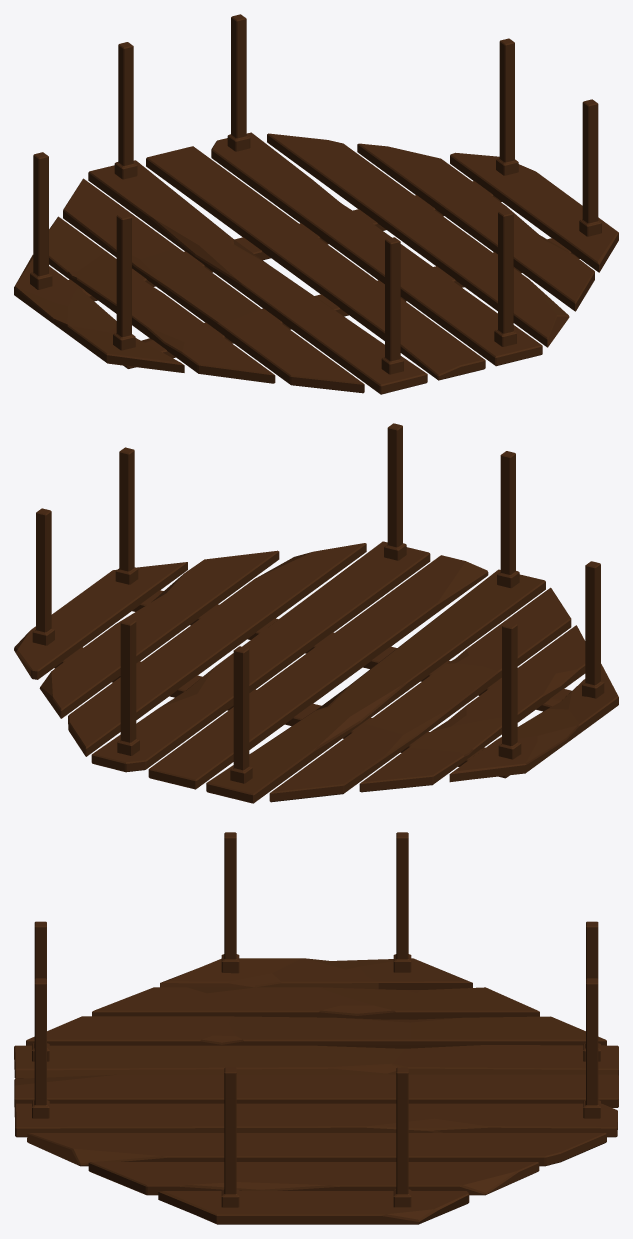
File: Platform-M03C.fbx
3 views of the same model, one above another, from view 1: azimuth 30°, elevation 25°; view 2: azimuth 150°, elevation 25°; view 3: azimuth 270°, elevation 25° (orthographic). The views are drawn at different scales.
Visible parts, largest first — view 1: Cube.001; view 2: Cube.001; view 3: Cube.001.
Part boxes in pixels (x1,y1,x2,y2): Cube.001: (14, 14, 618, 394); Cube.001: (14, 423, 618, 803); Cube.001: (14, 832, 618, 1224).
Size of the model in its own units: 241 by 66.86 by 240.
